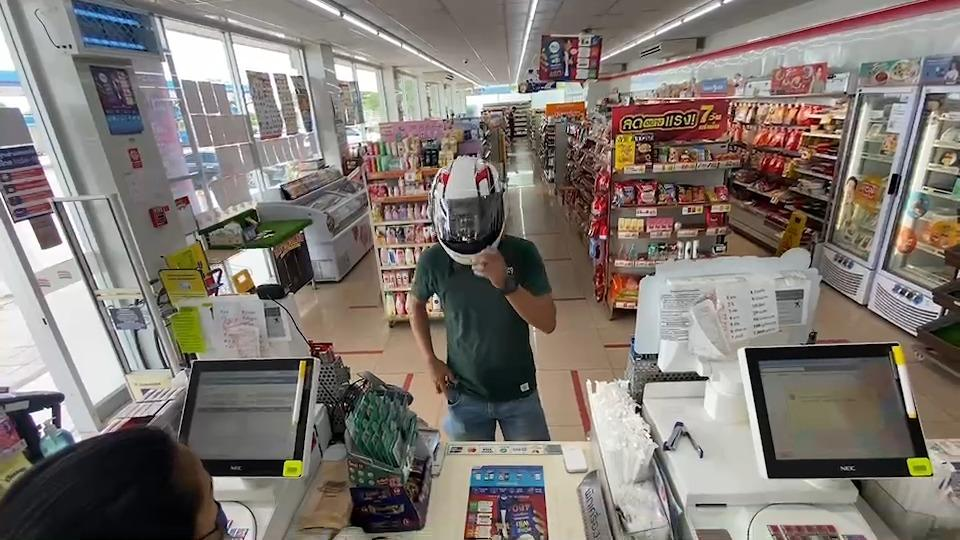criminal: (404, 154, 559, 440)
